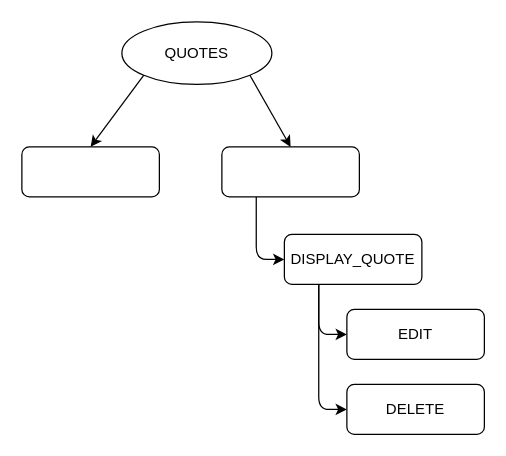
This 506x456 diagram has some shape labels left out. The shapes that lost their labels are listed below. From the top down, each one's centre as x and y in pixels, then its label:
At [90,171]: "ADD_QUOTE".
At [290,171]: "SEARCH_QUOTE".
